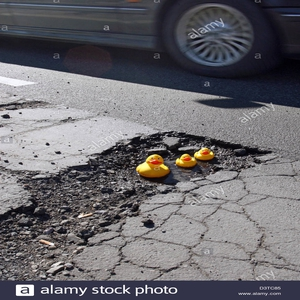pothole: (1, 130, 271, 281)
